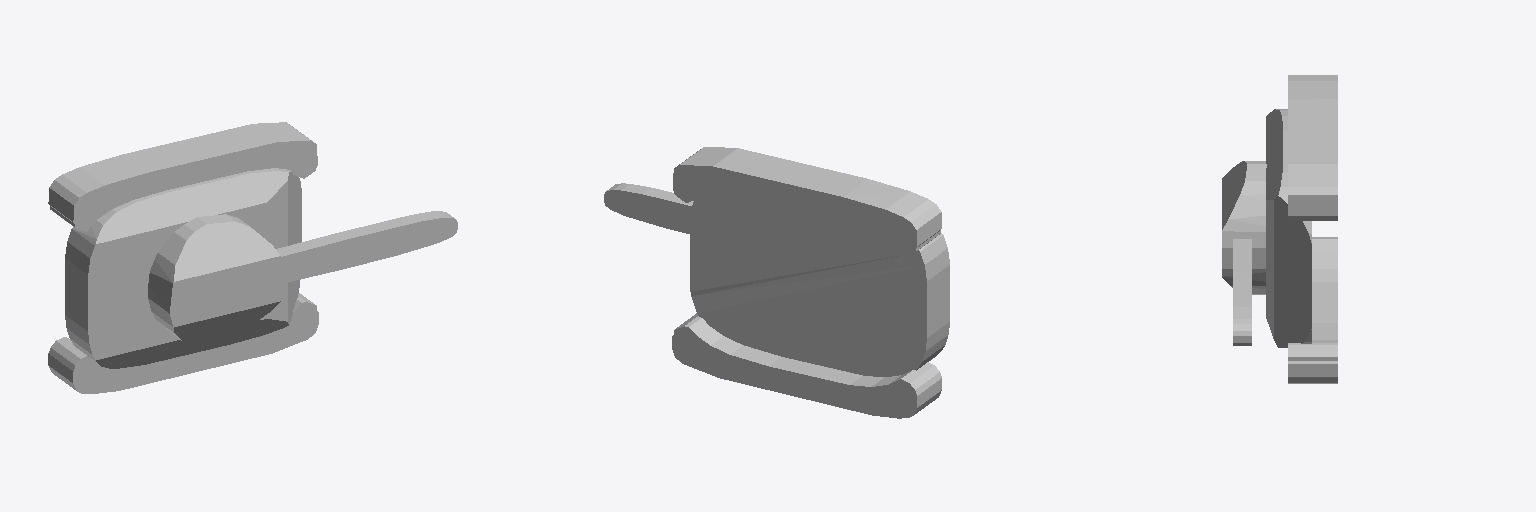
File: t2d_v2_tanks_v5.obj
3 views of the same model, side by side, from view 1: azimuth 30°, elevation 25°; view 2: azimuth 150°, elevation 25°; view 3: azimuth 270°, elevation 25° (orthographic).
Parts seen in each view (by area): view 1: Object.5, Object.4, Object.3, Object.2, Object.1; view 2: Object.5, Object.3, Object.2, Object.1; view 3: Object.5, Object.3, Object.2, Object.4, Object.1.
Part boxes in pixels (left/top/right/bottom): Object.5: left=65, top=168, right=301, bottom=368; Object.4: left=148, top=214, right=283, bottom=344; Object.3: left=48, top=122, right=317, bottom=231; Object.2: left=48, top=293, right=318, bottom=393; Object.1: left=276, top=211, right=457, bottom=282; Object.5: left=690, top=196, right=949, bottom=376; Object.3: left=673, top=147, right=941, bottom=256; Object.2: left=672, top=313, right=941, bottom=418; Object.1: left=604, top=183, right=693, bottom=233; Object.5: left=1266, top=109, right=1311, bottom=347; Object.3: left=1288, top=75, right=1337, bottom=220; Object.2: left=1288, top=237, right=1337, bottom=383; Object.4: left=1222, top=161, right=1266, bottom=294; Object.1: left=1233, top=239, right=1251, bottom=345.
Bounding box in the file's own units: 131 × 73.92 × 36.97.